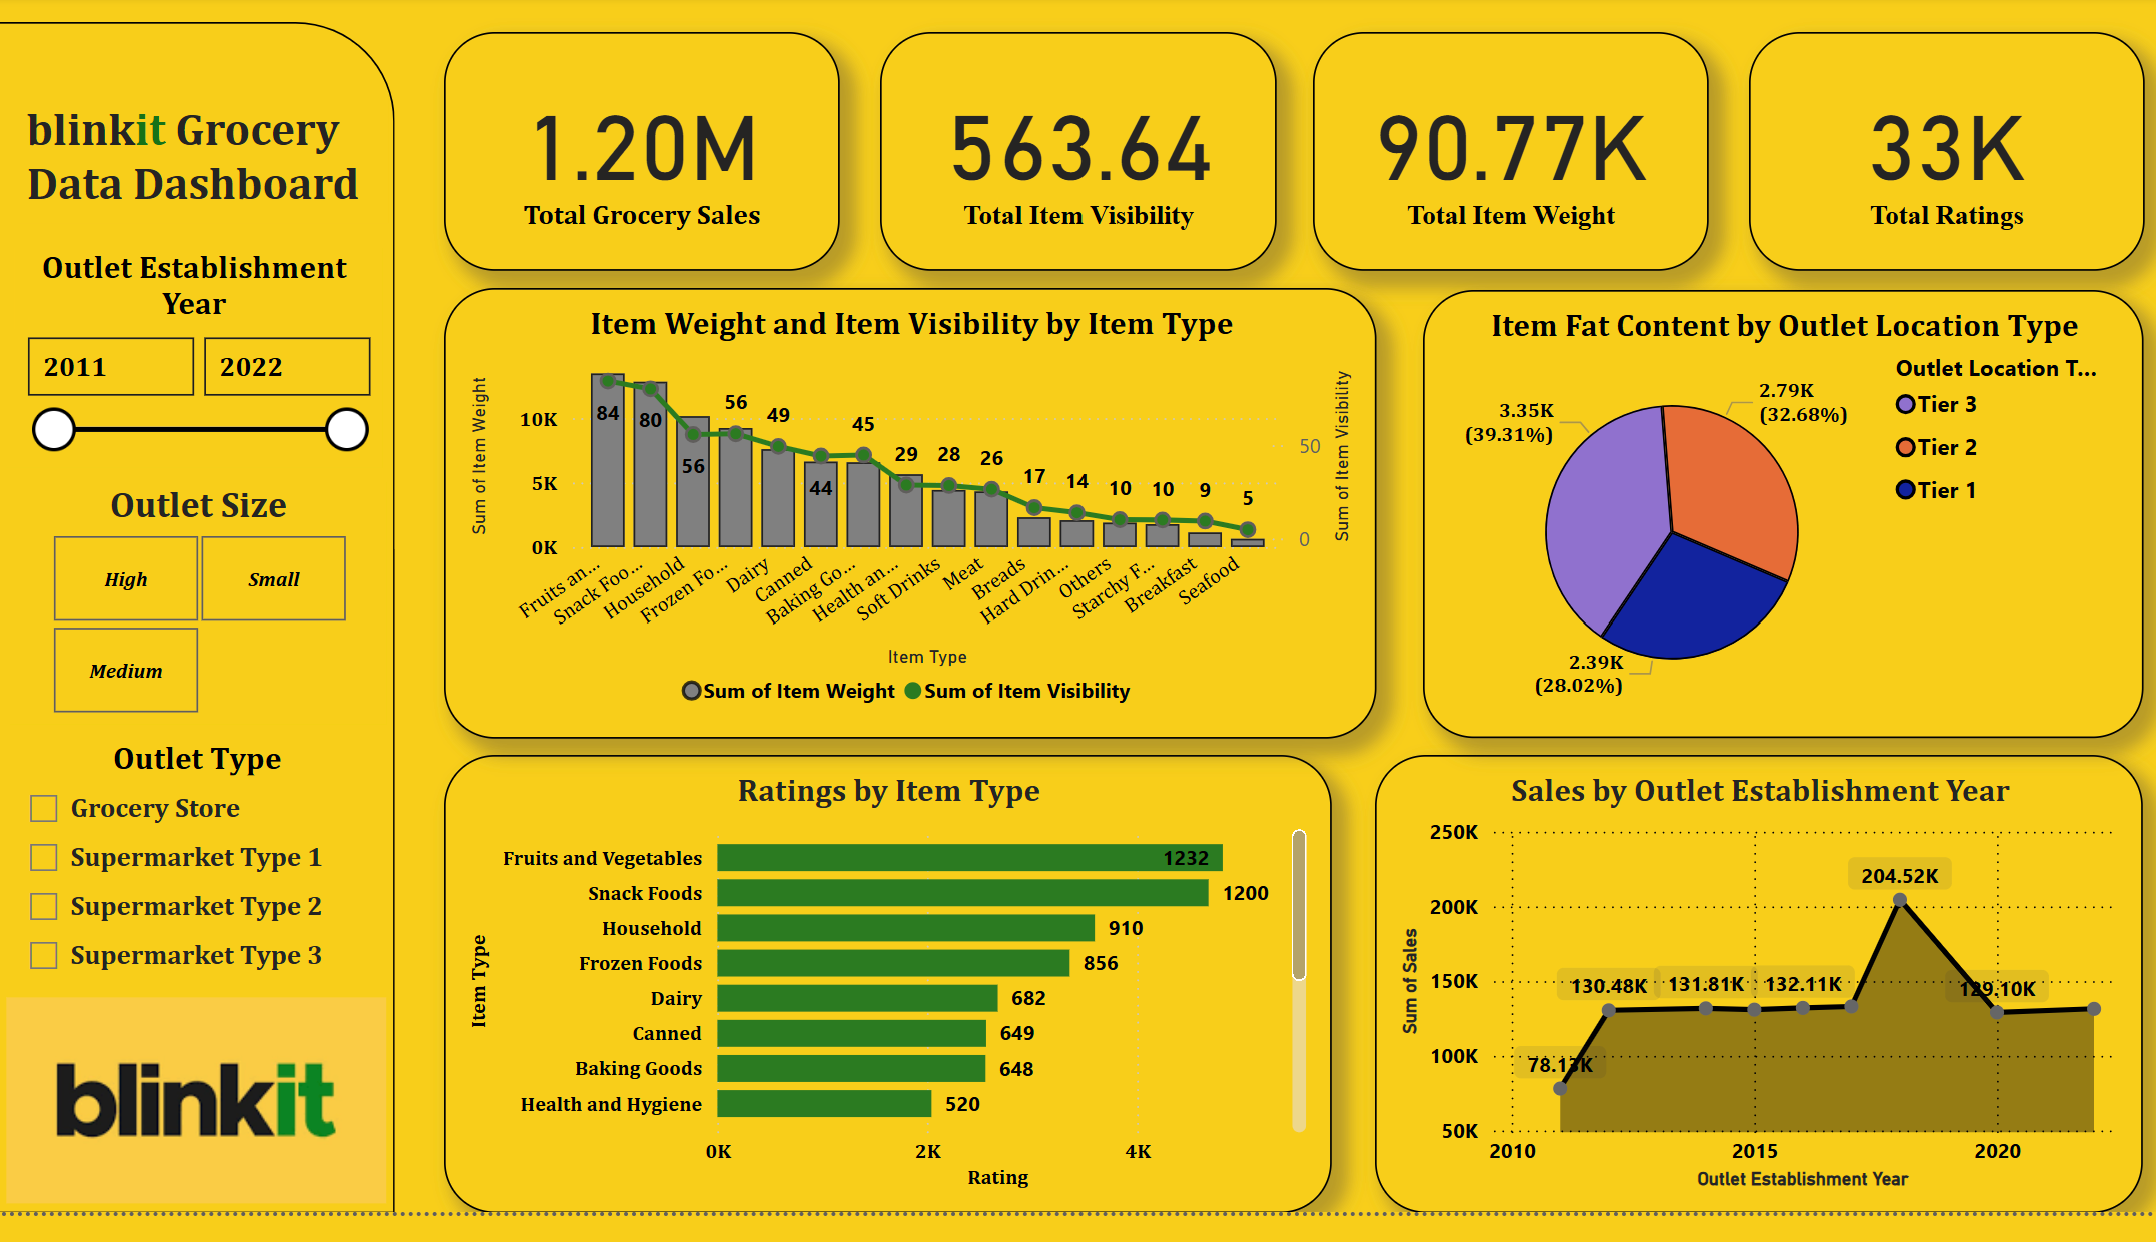

This screenshot's page, from the dashboard's own definition file:
{"tool":"powerbi","page":{"name":"BlinkIt_1","canvas":[1280,720],"ordinal":0},"visuals":[{"type":"shape","box":[0,15.9,235.1,705.4],"z":0},{"type":"textbox","box":[11.5,58.6,219.3,76.5],"z":1000},{"type":"slicer","title":"Outlet Size","fields":{"Values":["BlinkIT Grocery Data.Outlet Size"]},"box":[7.6,288.1,223.1,142.8],"z":2000},{"type":"image","box":[0,587.8,235.1,132.1],"z":3000},{"type":"slicer","title":"Outlet Establishment Year","fields":{"Values":["BlinkIT Grocery Data.Outlet Establishment Year"]},"box":[5.1,149.2,223.1,130],"z":4000},{"type":"slicer","title":"Outlet Type","fields":{"Values":["BlinkIT Grocery Data.Outlet Type"]},"box":[6.4,439.8,224.4,147.9],"z":5000},{"type":"card","fields":{"Values":["Sum(BlinkIT Grocery Data.Item Visibility)"]},"box":[522.7,21.7,234.6,141.5],"z":6000},{"type":"card","fields":{"Values":["Sum(BlinkIT Grocery Data.Item Weight)"]},"box":[779,21.7,234.6,141.5],"z":7000},{"type":"card","fields":{"Values":["Sum(BlinkIT Grocery Data.Sales)"]},"box":[263.9,21.7,234.6,141.5],"z":8000},{"type":"card","fields":{"Values":["Sum(BlinkIT Grocery Data.Rating)"]},"box":[1036.5,21.7,234.6,141.5],"z":9000},{"type":"stackedAreaChart","title":"Sales by Outlet Establishment Year","fields":{"Y":["Sum(BlinkIT Grocery Data.Sales)"],"Category":["BlinkIT Grocery Data.Outlet Establishment Year"]},"box":[815.9,448.8,455.1,271.6],"z":10000},{"type":"barChart","title":"Ratings by Item Type","fields":{"Y":["Sum(BlinkIT Grocery Data.Rating)"],"Category":["BlinkIT Grocery Data.Item Type"]},"box":[263.9,448.8,525.3,271.6],"z":11000},{"type":"pieChart","title":" Item Fat Content by Outlet Location Type","fields":{"Y":["CountNonNull(BlinkIT Grocery Data.Item Fat Content)"],"Category":["BlinkIT Grocery Data.Outlet Location Type"]},"box":[844,174.7,427.1,265.2],"z":12000},{"type":"lineClusteredColumnComboChart","title":"Item Weight and Item Visibility by Item Type","fields":{"Y":["Sum(BlinkIT Grocery Data.Item Weight)"],"Y2":["Sum(BlinkIT Grocery Data.Item Visibility)"],"Category":["BlinkIT Grocery Data.Item Type"]},"box":[263.9,173.4,552,266.5],"z":13000}]}

Visuals, with their boxes in screenshot pixels (x1, y1, x2, y2), scaled from the page's 1280x720 canvas onto the 2156x1242 screenshot:
shape: 0:27:396:1241
textbox: 19:101:389:233
"Outlet Size" slicer: 13:497:389:743
image: 0:1014:396:1241
"Outlet Establishment Year" slicer: 9:257:384:482
"Outlet Type" slicer: 11:759:389:1014
card - Sum(BlinkIT Grocery Data.Item Visibility): 880:37:1276:282
card - Sum(BlinkIT Grocery Data.Item Weight): 1312:37:1707:282
card - Sum(BlinkIT Grocery Data.Sales): 445:37:840:282
card - Sum(BlinkIT Grocery Data.Rating): 1746:37:2141:282
"Sales by Outlet Establishment Year" stackedAreaChart: 1374:774:2141:1241
"Ratings by Item Type" barChart: 445:774:1329:1241
" Item Fat Content by Outlet Location Type" pieChart: 1422:301:2141:759
"Item Weight and Item Visibility by Item Type" lineClusteredColumnComboChart: 445:299:1374:759
